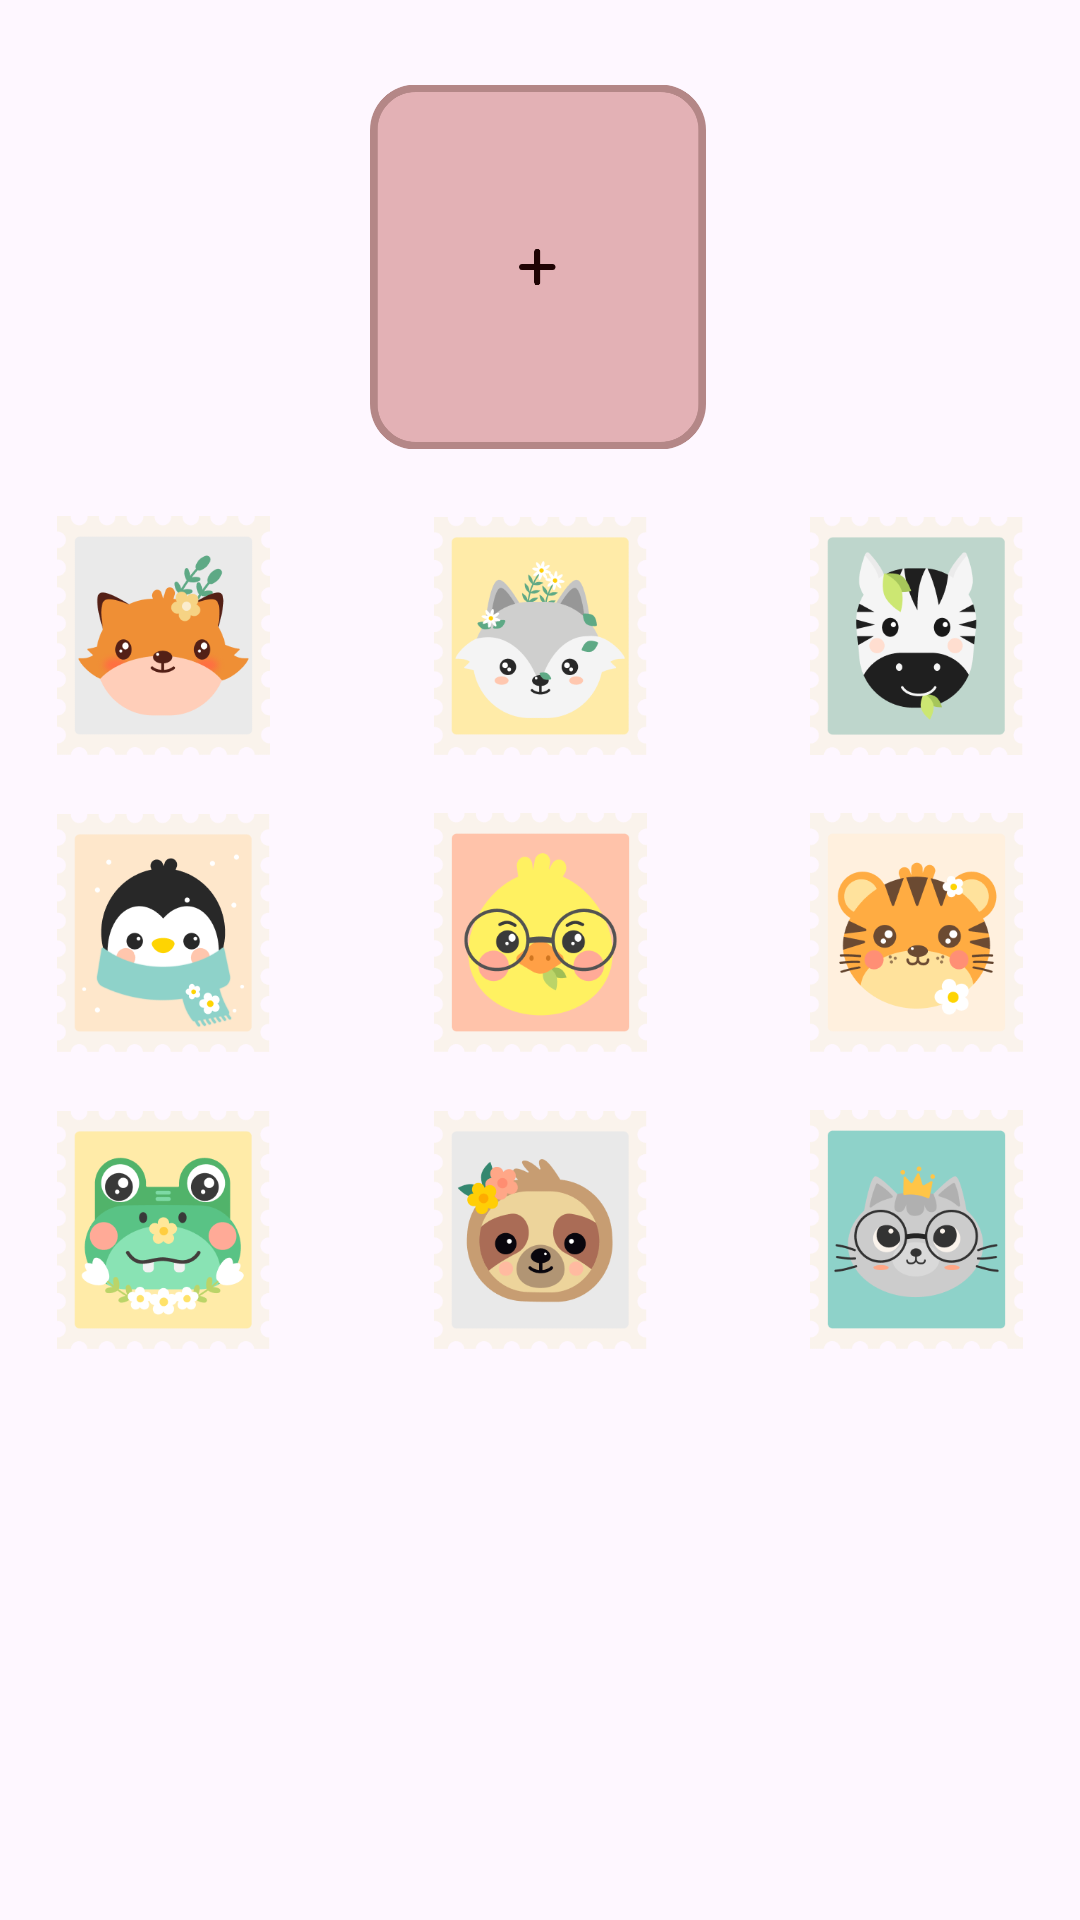

Screen size 1080 x 1920. Icon name, then its center in pixels as [x,y]:
catprofilepicture: [916,1229]
duckprofilepicture: [540,932]
foxprofilepicture: [163,635]
wolfprofilepicture: [540,636]
